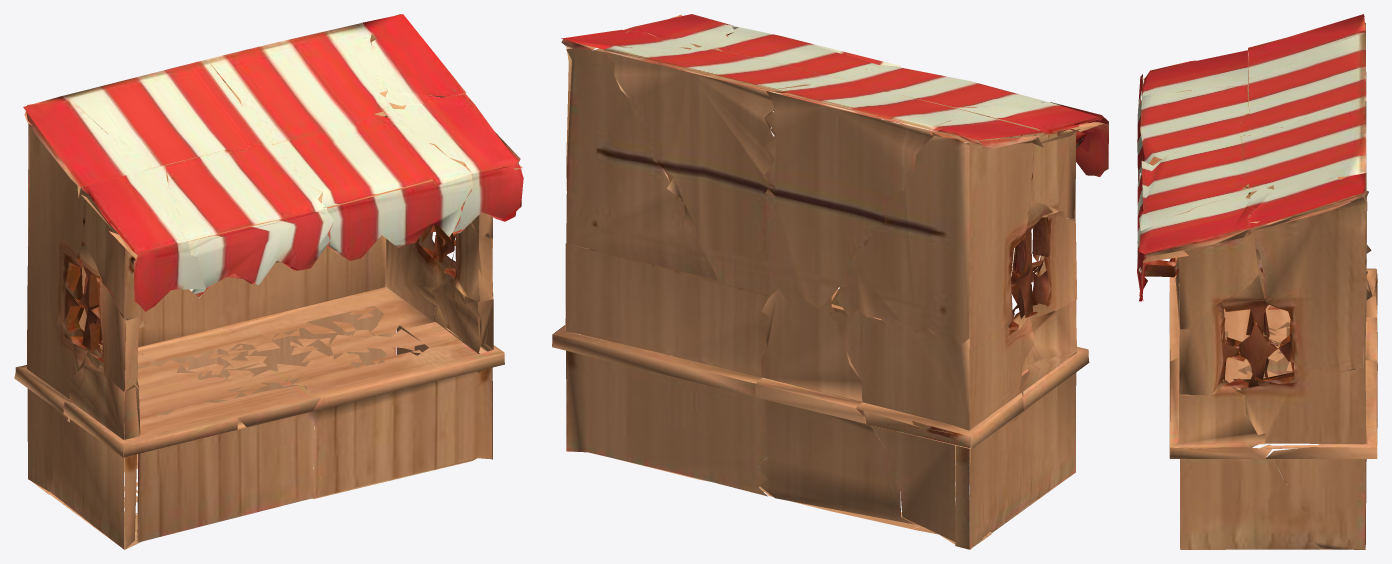
Rendered from stall.b8494f2d2dea.glb.
3 renders of one model, left to right at view 1: azimuth 30°, elevation 25°; view 2: azimuth 150°, elevation 25°; view 3: azimuth 270°, elevation 25°, orthographic. The views are drawn at different scales.
Visible parts, largest first — view 1: Mesh_0.001; view 2: Mesh_0.001; view 3: Mesh_0.001.
Boxes of the visible parts, left/top/right/bottom form: Mesh_0.001: left=14, top=14, right=523, bottom=549; Mesh_0.001: left=552, top=14, right=1108, bottom=549; Mesh_0.001: left=1137, top=14, right=1377, bottom=549.
Size of the model in its own units: 3.66 by 3.39 by 2.04.
1 material, 1 textured.
